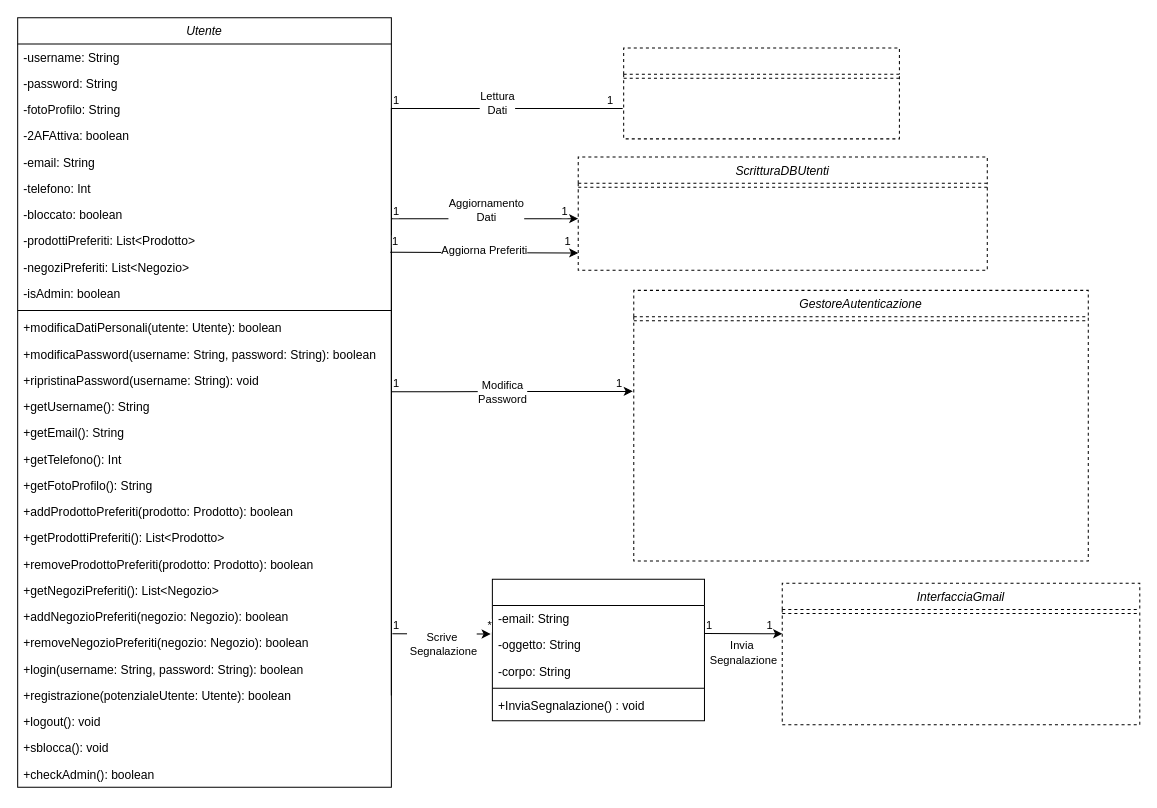
Some shapes in this 1157 by 808 pixel diagram are drawn without their labels. The box of each missing label's shape, as (x1, y1, x2, y2) in pixels:
InterfacciaSegnalazioni: (491, 578, 704, 721)
LetturaDBUtenti: (623, 47, 899, 139)
